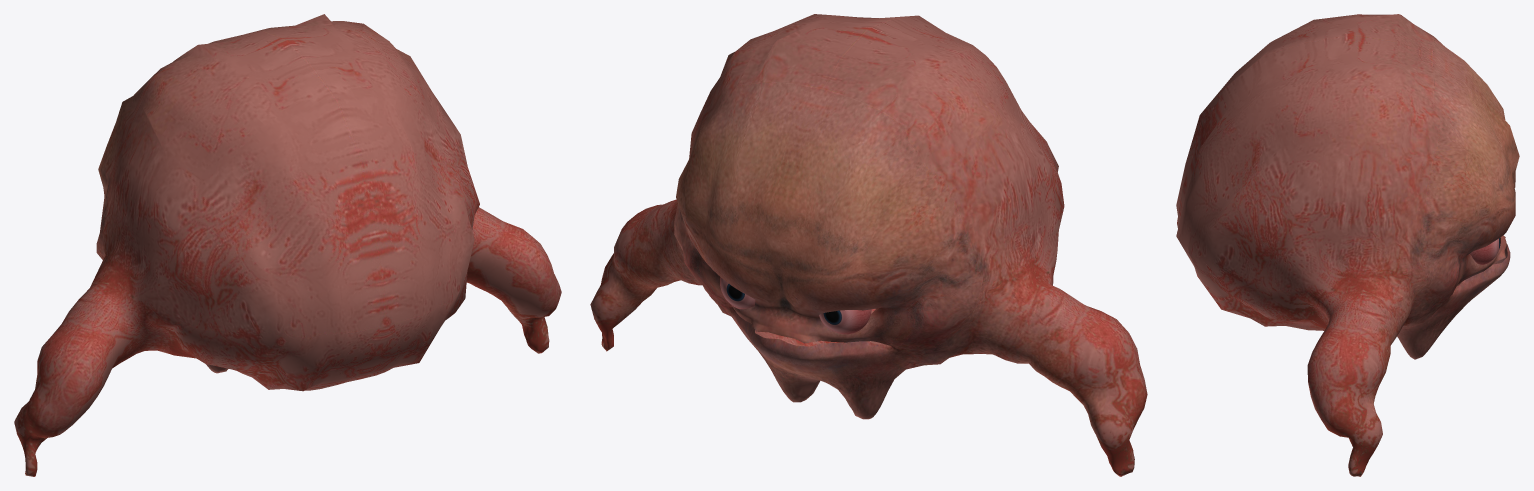
File: aY8hdiQMQdDjXtWRHM7PjnVwjdu.glb
3 renders of one model, left to right at view 1: azimuth 30°, elevation 25°; view 2: azimuth 150°, elevation 25°; view 3: azimuth 270°, elevation 25°, orthographic. The views are drawn at different scales.
Parts seen in each view (by area): view 1: Object_2; view 2: Object_2, Object_3, Object_4; view 3: Object_2, Object_4.
Part boxes in pixels (box(x1,y1,x2,y2)): Object_2: box(14, 14, 561, 476); Object_2: box(590, 14, 1147, 476); Object_3: box(819, 309, 871, 334); Object_4: box(720, 277, 755, 309); Object_2: box(1176, 14, 1519, 476); Object_4: box(1469, 238, 1500, 264).
Size of the model in its own units: 2.42 by 1.64 by 1.54.
2 materials, 2 textured.
